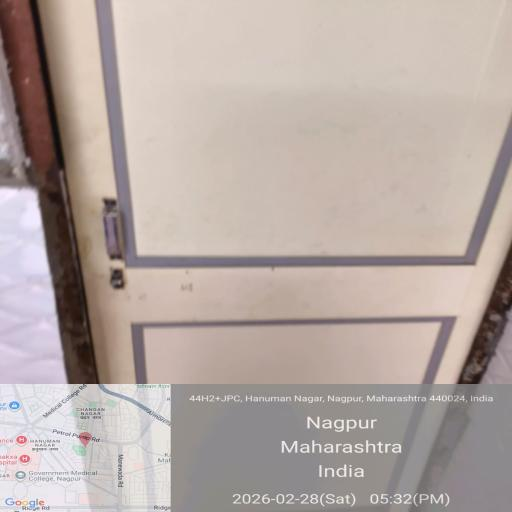clean_floor: (26, 94, 434, 512)
